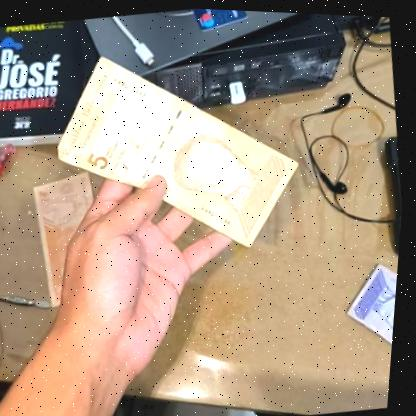five-front-vef: (40, 27, 318, 271)
ten-front-vef: (338, 255, 402, 408)
